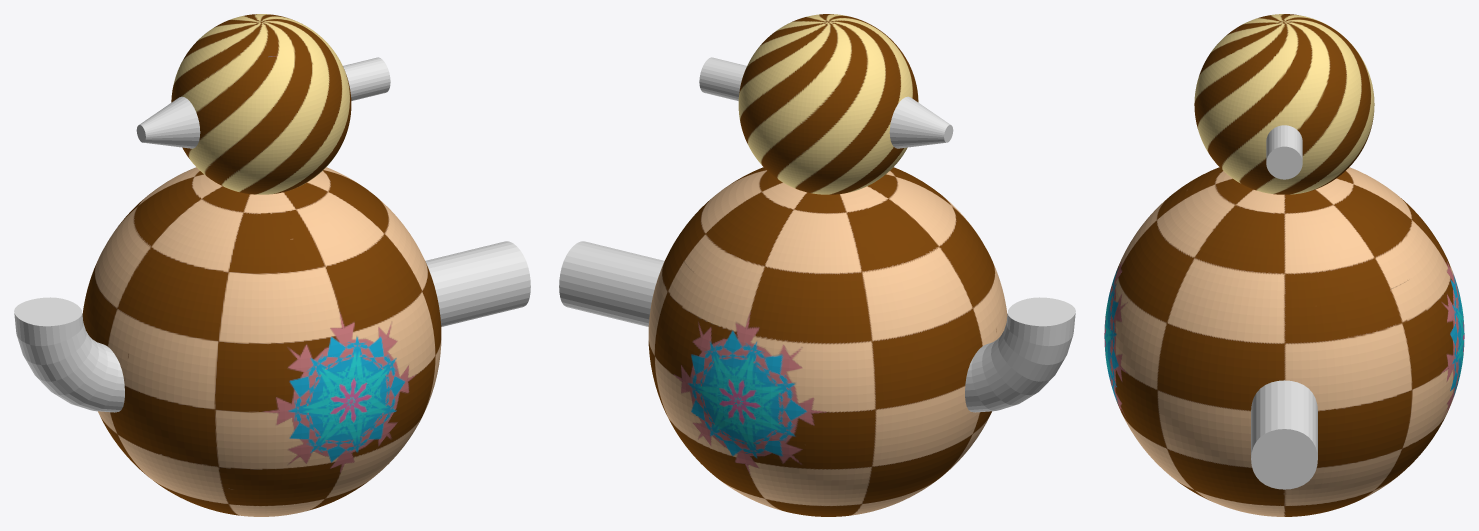
The model's file is BOD0_BMC3_BCC12_BPT4_FRC22_HEA0_HMC13_HCC3_HPT3_ELT2_ERT1_ELL0_ERL2_AP3_AAL1_AAR0_BEK0.fbx.
3 views of the same model, side by side, from view 1: azimuth 30°, elevation 25°; view 2: azimuth 150°, elevation 25°; view 3: azimuth 270°, elevation 25° (orthographic).
Parts seen in each view (by area): view 1: Body, Arm.001, Arm, Ear, Ear.001; view 2: Body, Arm.001, Arm, Ear, Ear.001; view 3: Body, Arm, Ear.001.
Part boxes in pixels (left/top/right/bottom): Body: left=82, top=14, right=441, bottom=516; Arm.001: left=14, top=297, right=124, bottom=412; Arm: left=425, top=241, right=530, bottom=326; Ear: left=136, top=96, right=200, bottom=148; Ear.001: left=343, top=57, right=390, bottom=100; Body: left=648, top=14, right=1007, bottom=516; Arm.001: left=965, top=297, right=1075, bottom=412; Arm: left=559, top=241, right=664, bottom=326; Ear: left=889, top=96, right=953, bottom=148; Ear.001: left=699, top=57, right=746, bottom=100; Body: left=1104, top=14, right=1464, bottom=516; Arm: left=1251, top=380, right=1317, bottom=489; Ear.001: left=1266, top=125, right=1302, bottom=179.
Size of the model in its own units: 78.31 by 72.41 by 49.36.
1 material, 1 textured.
